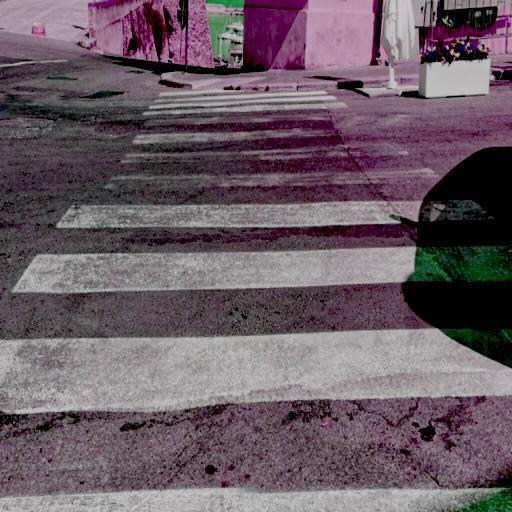crosswalk: (8, 196, 512, 306)
